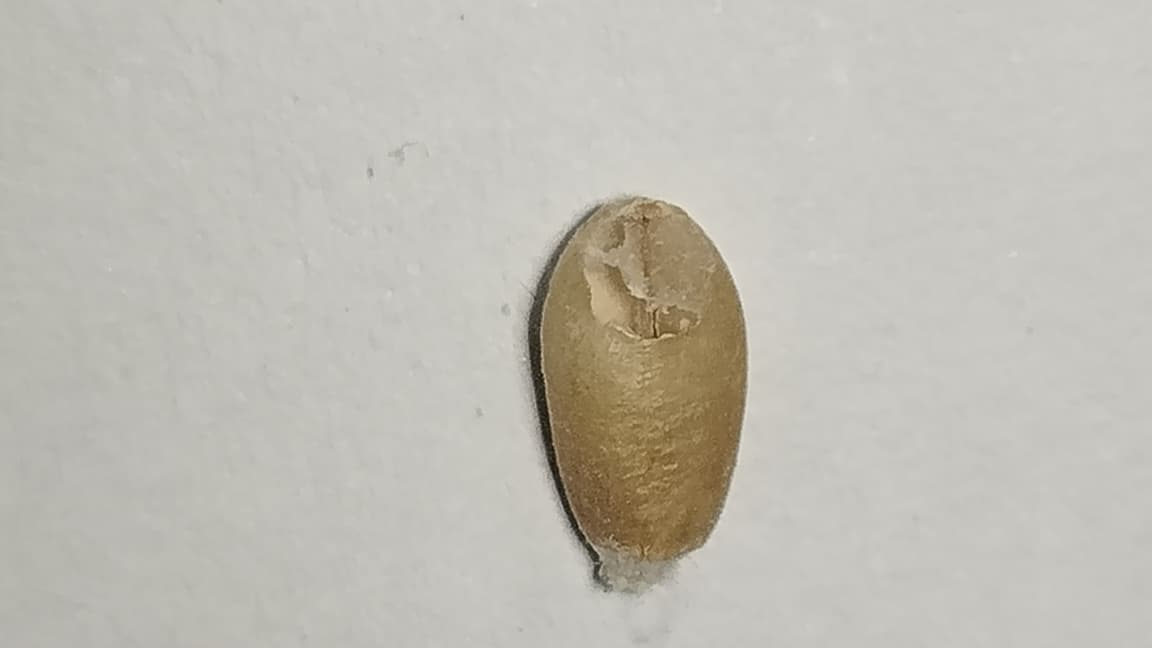damage: (540, 196, 746, 590)
insectdamage: (582, 195, 713, 344)
